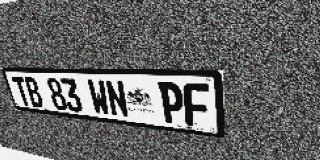3: (60, 78, 83, 113)
8: (45, 78, 68, 111)
B: (23, 77, 45, 108)
F: (182, 83, 210, 128)
N: (104, 80, 130, 118)
P: (158, 82, 185, 125)
T: (11, 76, 32, 107)
W: (86, 79, 111, 116)
